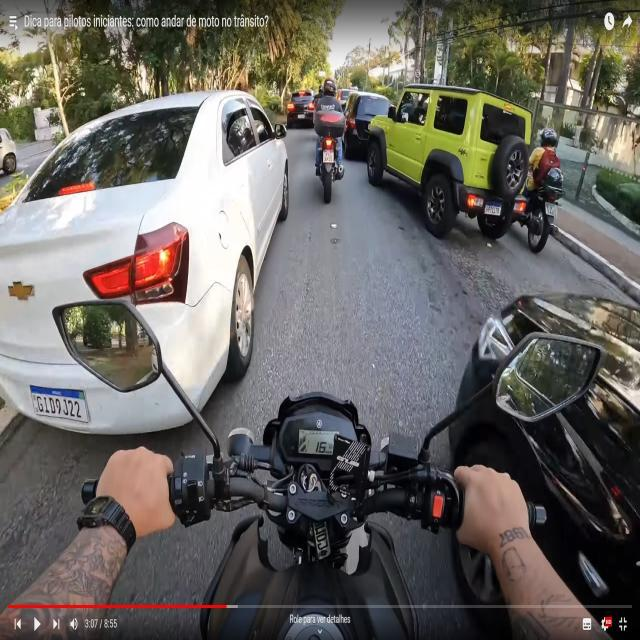placa_moto: (323, 147, 335, 163), (545, 201, 557, 217)
